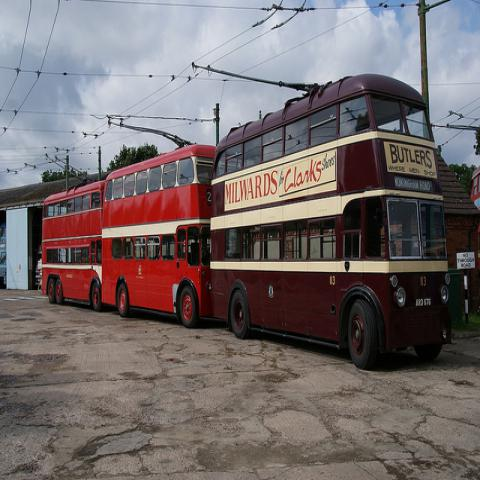bus: (212, 71, 451, 369), (101, 146, 216, 327), (41, 179, 104, 312)
